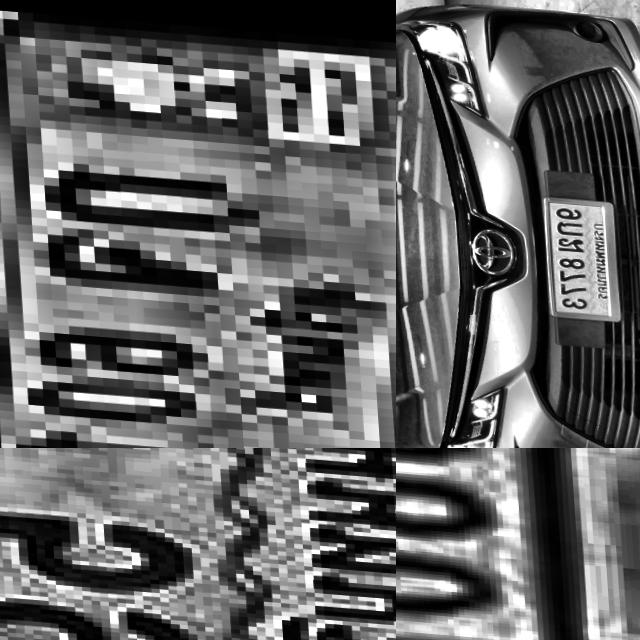license-plate: (0, 0, 396, 448), (0, 448, 396, 640), (396, 448, 640, 640), (534, 188, 619, 314)
